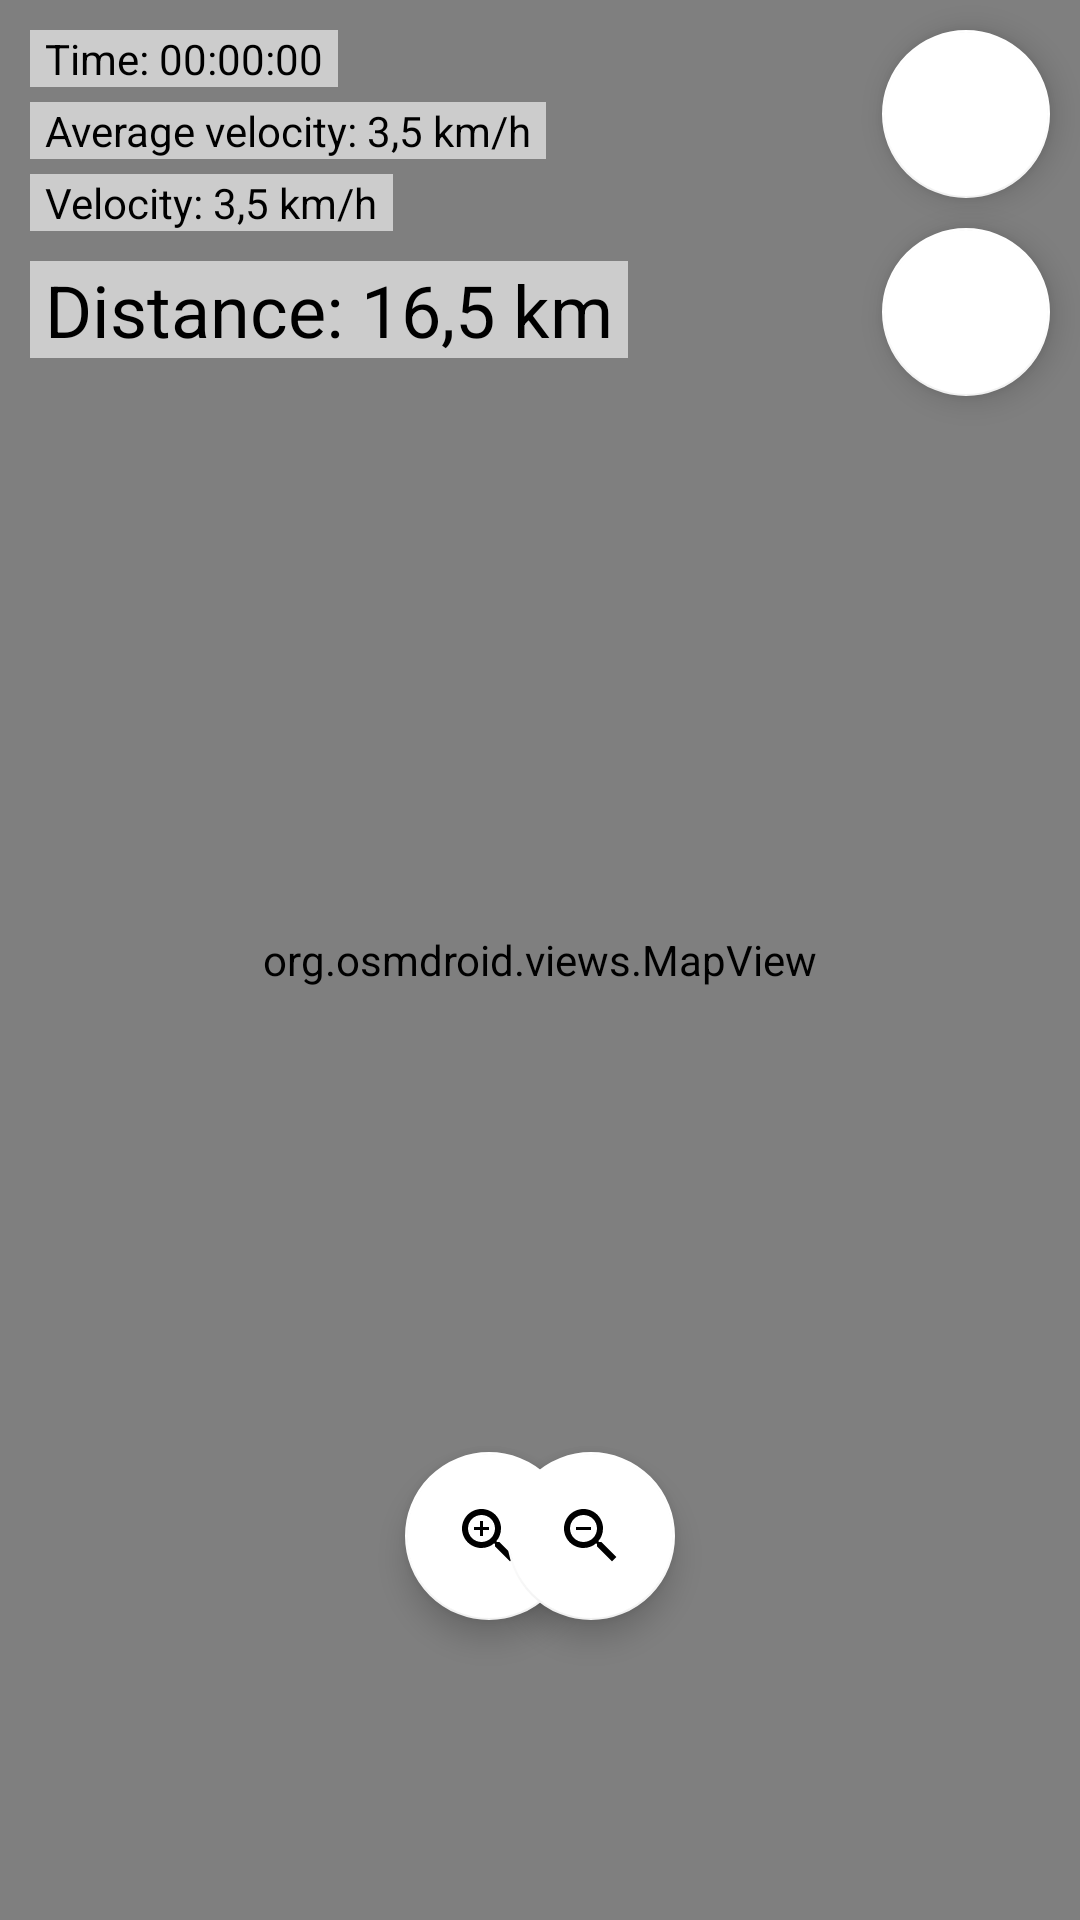

Where icons sit on this 1080px x 1920px app screen, as (x1, y1, x2, y2):
zoom in: (405, 1452, 573, 1620)
zoom out: (507, 1452, 675, 1620)
